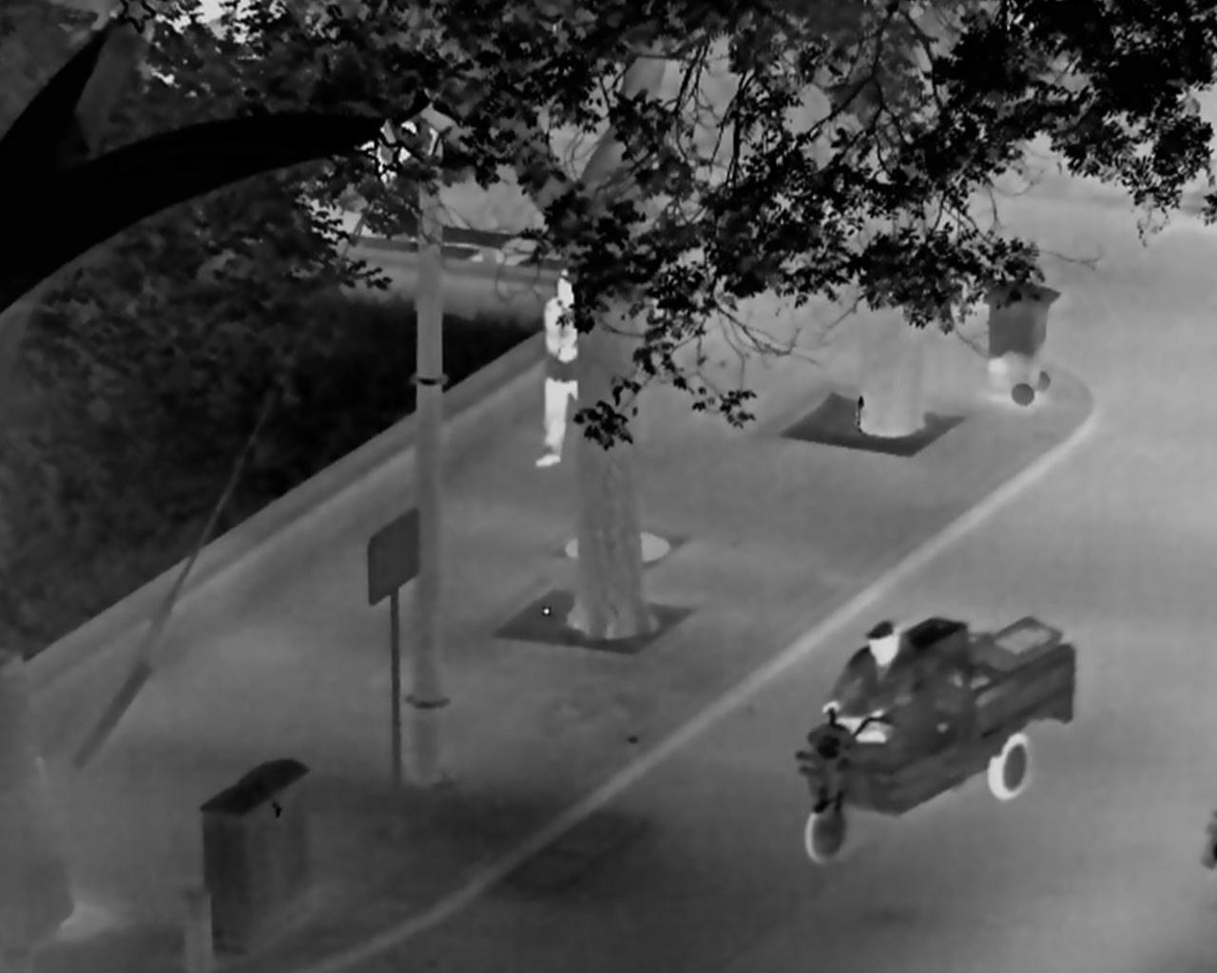person: (821, 620, 924, 743), (534, 266, 581, 466)
